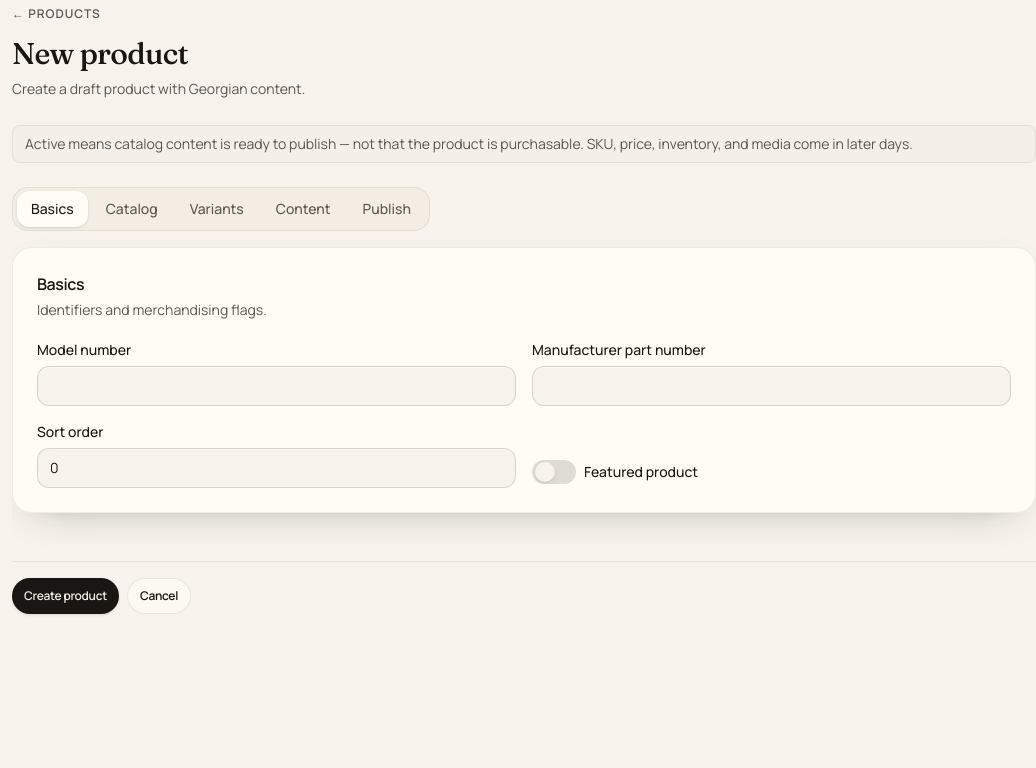
Test: ProductFormPage › asks to save the product before configuring variants on create
The width and height of the screenshot is (1036, 768).
Step 1. Click the tab "Variants" → (217, 209), box [176, 191, 258, 227]
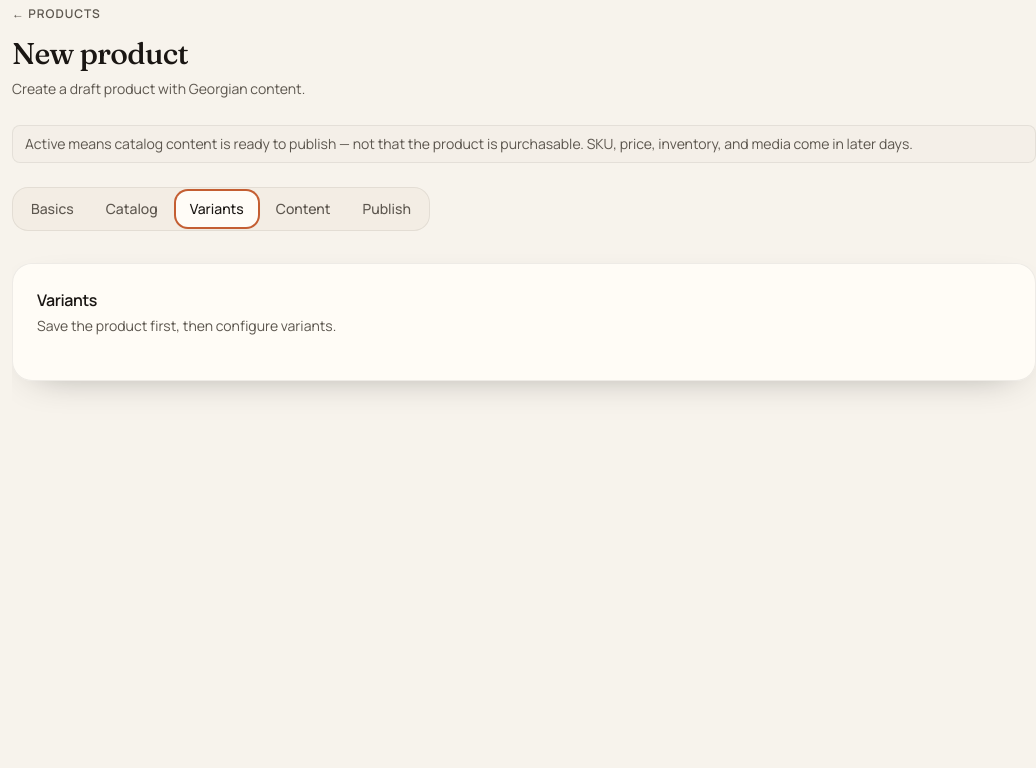
Result: the text "Save the product first, then configure variants." is shown at [37, 316, 336, 336]
